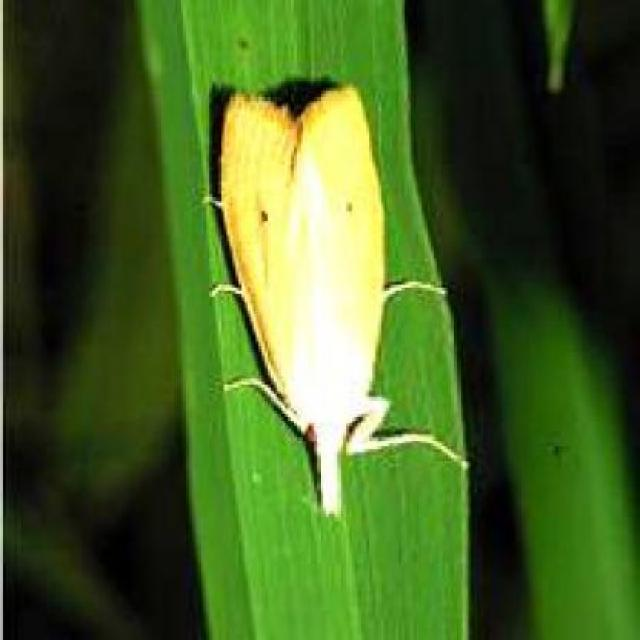stem-borer: (200, 82, 471, 520)
